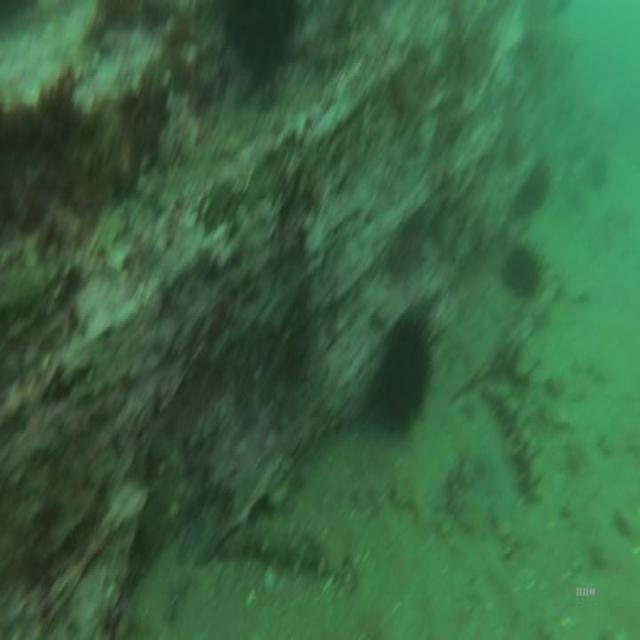echinus: (366, 296, 446, 447), (196, 1, 310, 100), (502, 229, 553, 304)
holothurian: (223, 504, 335, 588), (481, 374, 549, 510)
